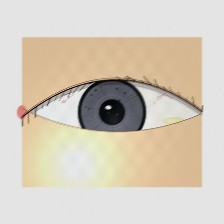pinguecula_lesion: (150, 102, 198, 140)
